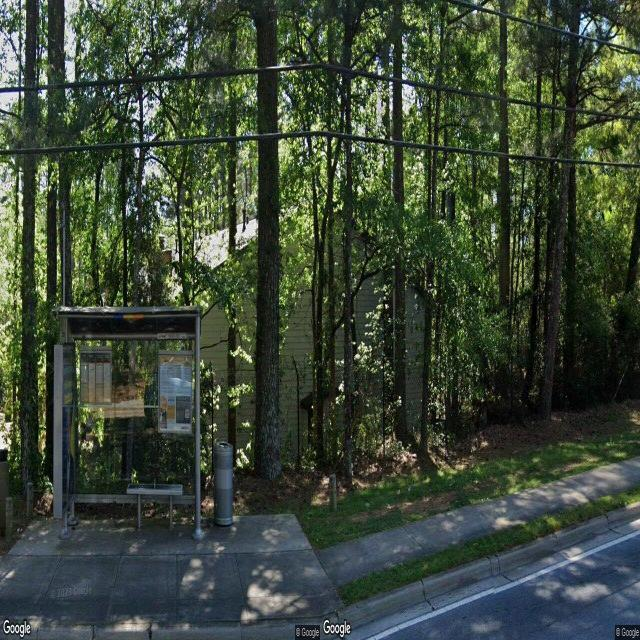seating: (126, 478, 184, 534)
shelter: (51, 304, 206, 540)
trash_can: (212, 441, 234, 528), (0, 447, 10, 544)
